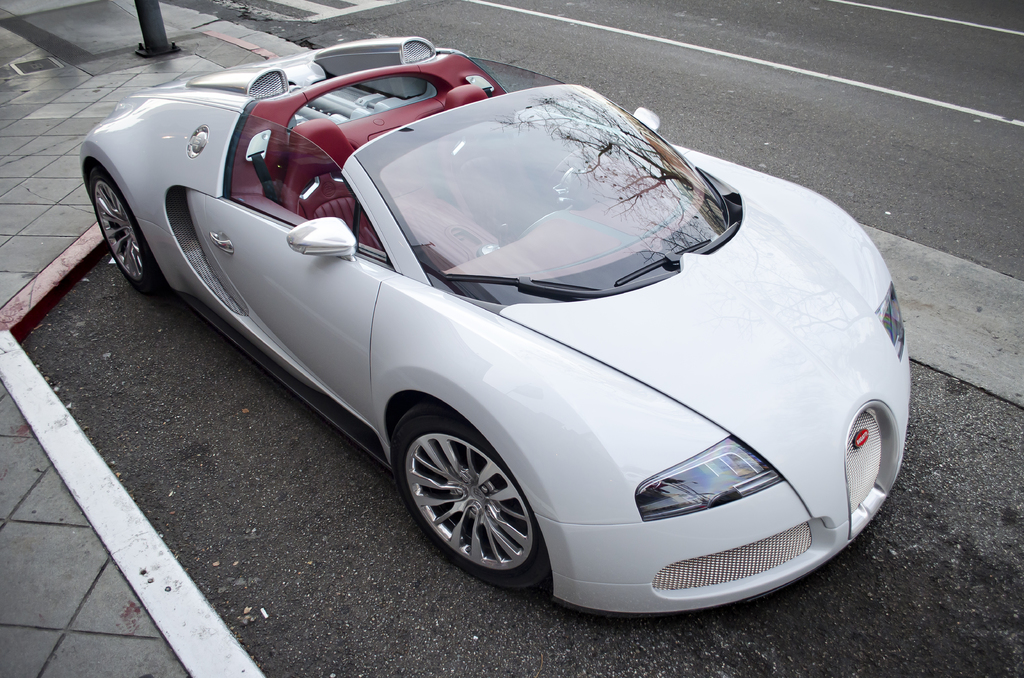Car: (81, 37, 910, 617)
